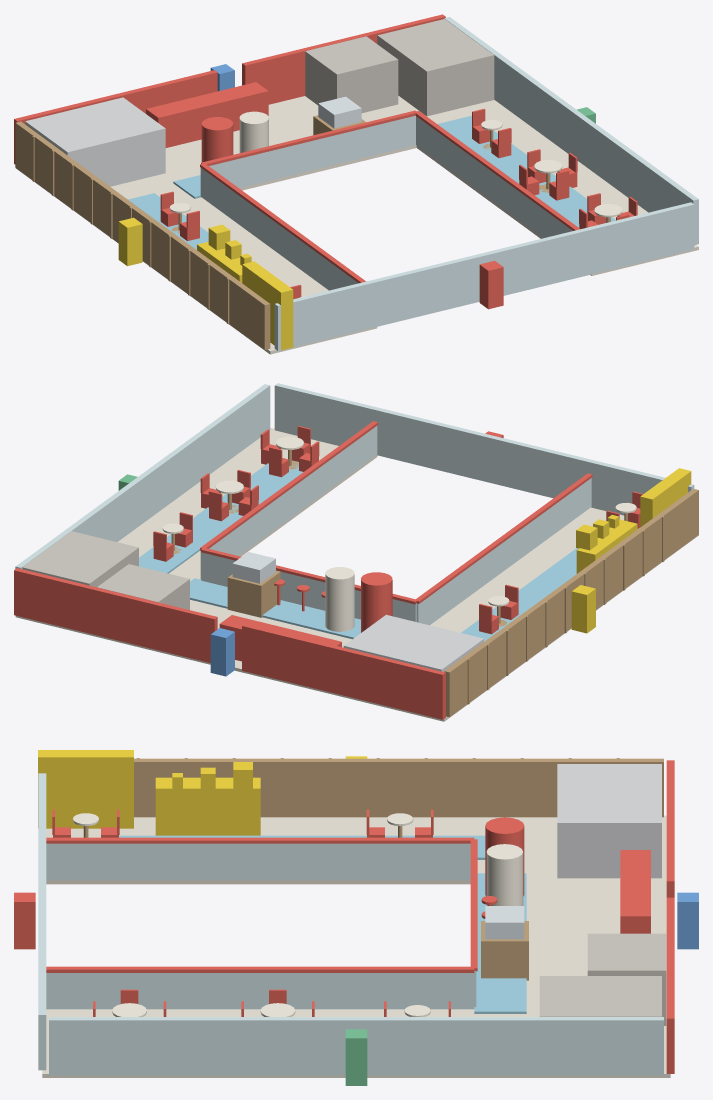
The picture shows the model from 3 angles, top to bottom: view 1: azimuth 30°, elevation 25°; view 2: azimuth 150°, elevation 25°; view 3: azimuth 270°, elevation 25°; orthographic projection. The views are drawn at different scales.
Visible parts, largest first — view 1: window (×2), wall (×3), core, office, floorN, railN, wc, railW, railE, drinkbar, circ (×2), floorW (+11 smaller); view 2: wall (×3), window (×2), circ (×3), railW, railE, floorE, office, floorW, core, railN, wc, floorN (+12 smaller); view 3: window (×2), wall (×3), railW, railE, floorN, office, shelf, floorW, plushshelf, core, floorE, circ (×2) (+13 smaller).
Boxes of the visible parts, box(x1,y1,x2,y2) form: window (×2): box(274, 17, 698, 350); wall (×3): box(14, 14, 445, 349); core: box(377, 19, 494, 116); office: box(25, 97, 165, 186); floorN: box(16, 96, 520, 225); railN: box(209, 115, 415, 187); wc: box(305, 36, 398, 113); railW: box(200, 168, 358, 290); railE: box(416, 116, 572, 238); drinkbar: box(146, 82, 268, 147); circ (×2): box(128, 115, 615, 249); floorW: box(95, 197, 377, 354); wall (×3): box(14, 488, 698, 719); window (×2): box(15, 383, 694, 568); circ (×3): box(139, 460, 578, 641); railW: box(416, 478, 591, 625); railE: box(200, 426, 377, 579); floorE: box(117, 428, 377, 579); office: box(343, 614, 483, 671); floorW: box(430, 507, 698, 662); core: box(22, 531, 138, 587); railN: box(201, 552, 416, 621); wc: box(97, 564, 189, 609); floorN: box(15, 579, 523, 721); window (×2): box(38, 773, 663, 1075); wall (×3): box(134, 758, 674, 1073); railW: box(46, 843, 470, 880); railE: box(46, 973, 474, 1009); floorN: box(474, 815, 670, 1077); office: box(557, 764, 661, 878); shelf: box(38, 750, 133, 828); floorW: box(46, 817, 474, 884); plushshelf: box(155, 777, 260, 835); core: box(539, 976, 661, 1016); floorE: box(42, 1009, 474, 1077); circ (×2): box(119, 835, 526, 1013).
Bounding box in the file's own units: 15.3 × 1.9 × 15.7.
